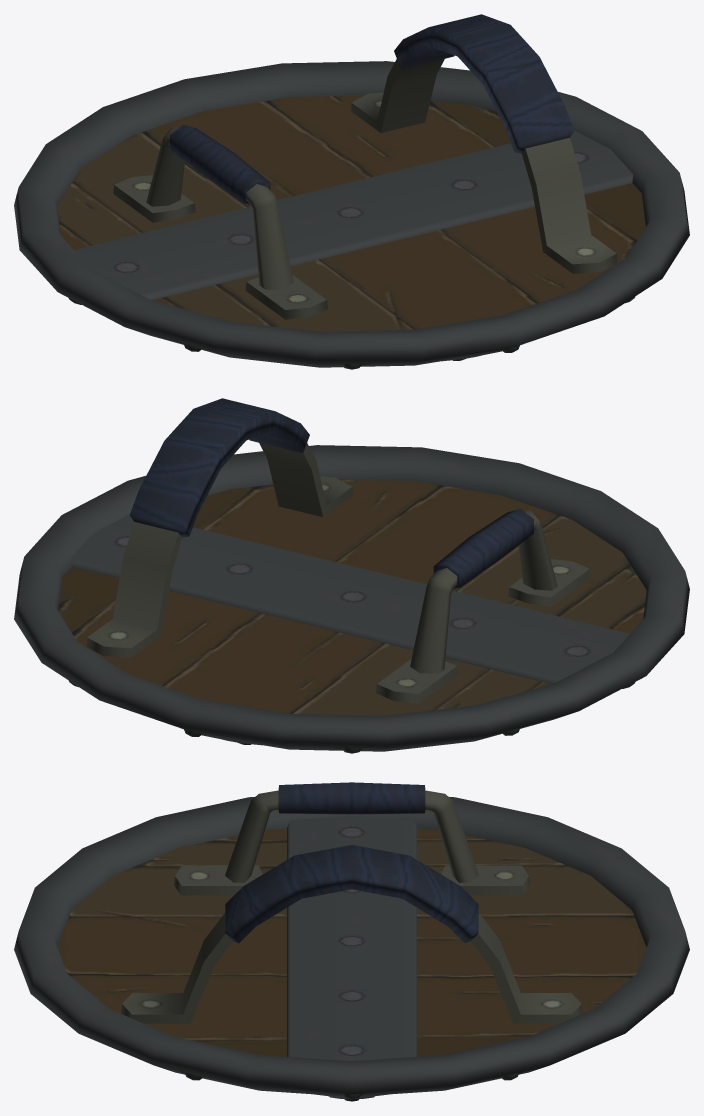
File: Weapon_Shield_002.glb
The picture shows the model from 3 angles, top to bottom: view 1: azimuth 30°, elevation 25°; view 2: azimuth 150°, elevation 25°; view 3: azimuth 270°, elevation 25°; orthographic projection.
Visible parts, largest first — view 1: Weapon_Shield_002; view 2: Weapon_Shield_002; view 3: Weapon_Shield_002.
Part boxes in pixels (x1=…): Weapon_Shield_002: x1=14, y1=14, x2=689, y2=369; Weapon_Shield_002: x1=14, y1=398, x2=689, y2=753; Weapon_Shield_002: x1=14, y1=782, x2=689, y2=1101.
Bounding box in the file's own units: 0.609 × 0.2618 × 0.6089.
Materials: 1 (1 with a texture image).
